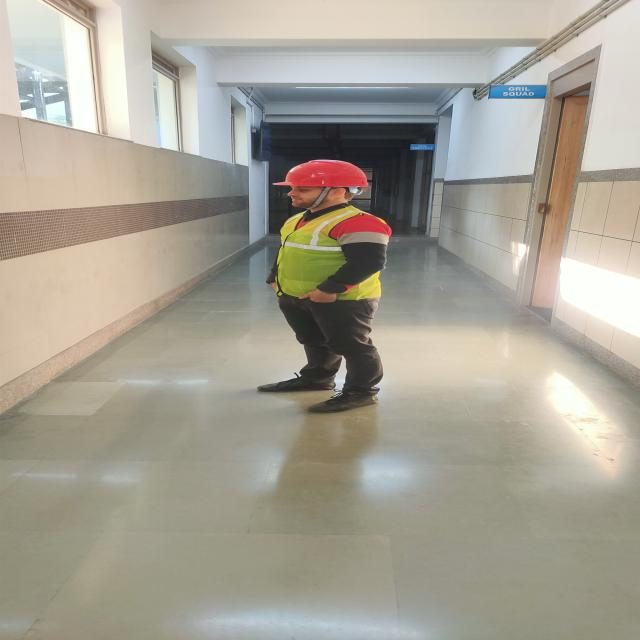safe: (261, 158, 396, 413)
